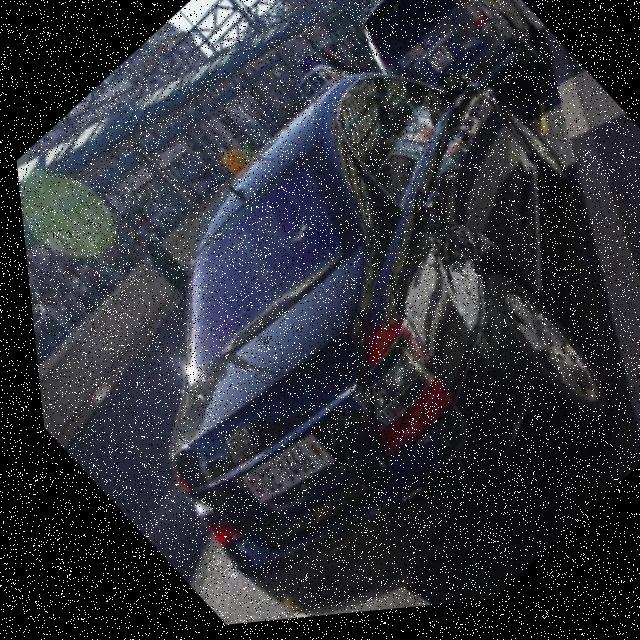license_plate: (224, 424, 330, 524), (421, 49, 456, 84)
